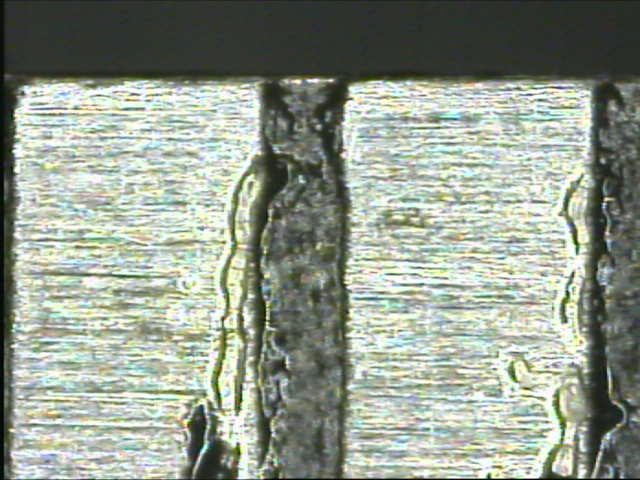line: (256, 78, 352, 470)
